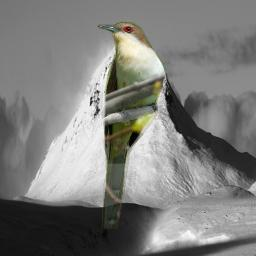Cuckoo: (97, 21, 168, 229)
